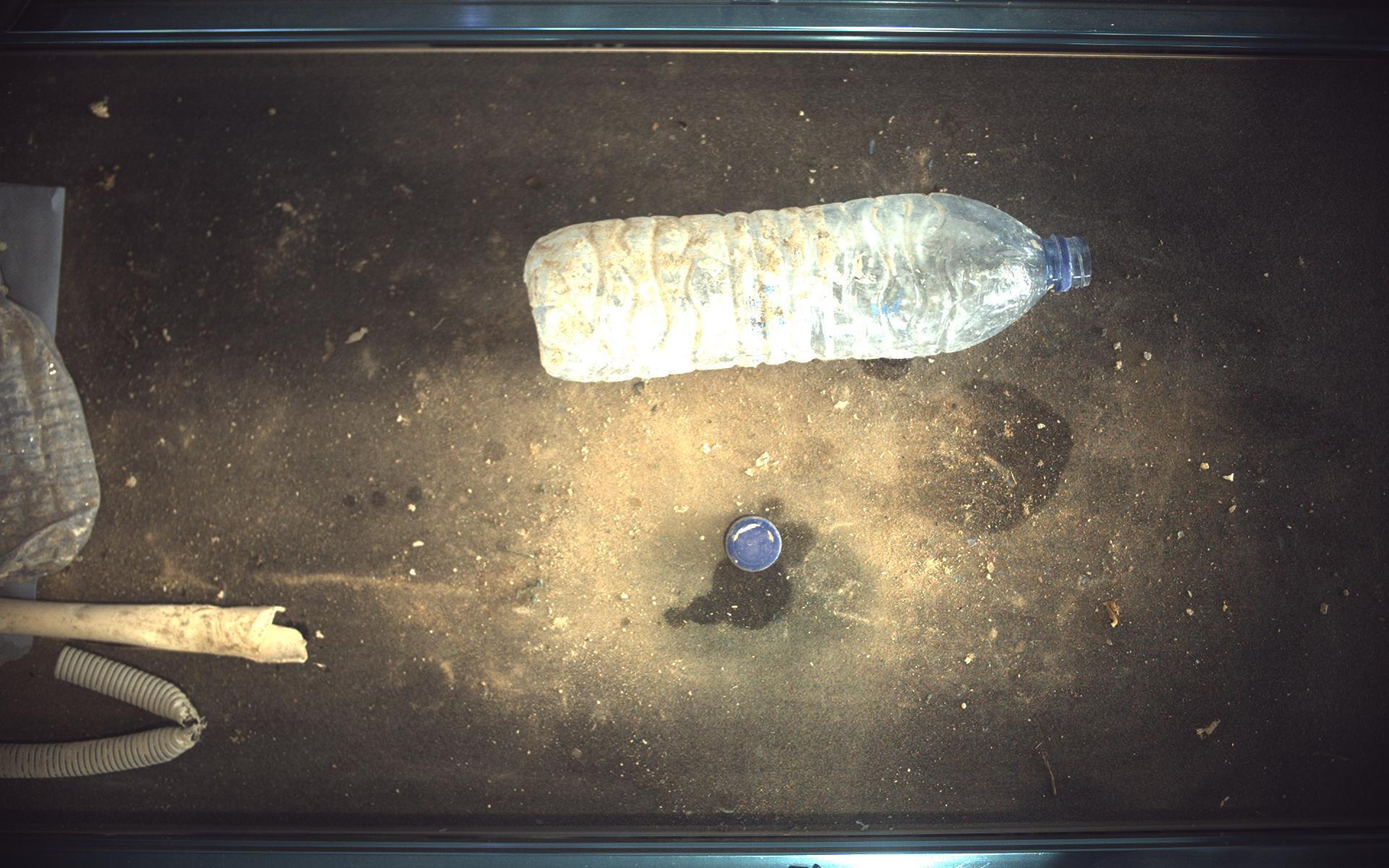general_w: (524, 192, 1095, 382), (726, 516, 783, 572)
